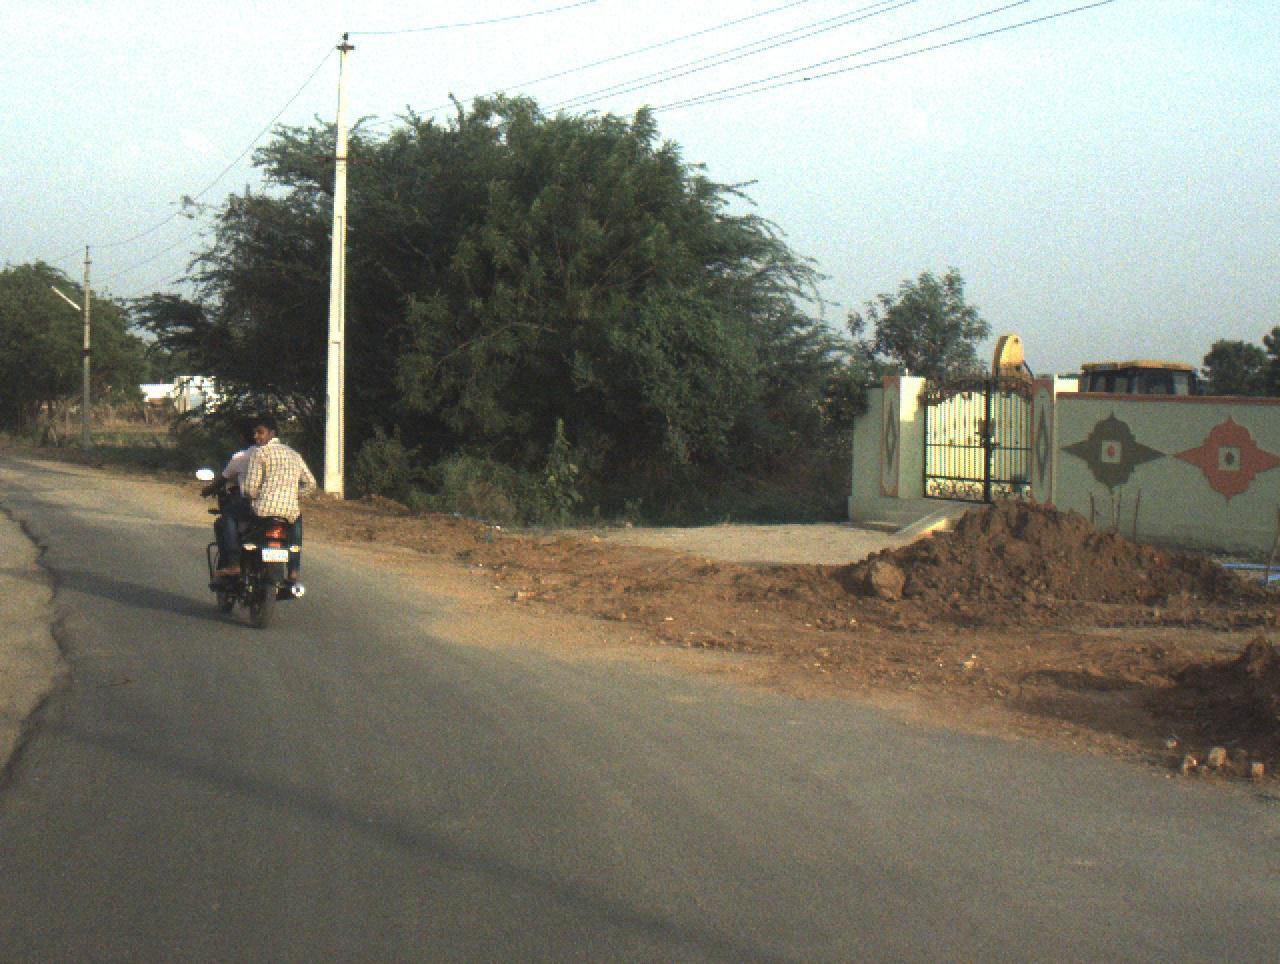off: (0, 1, 1280, 964)
